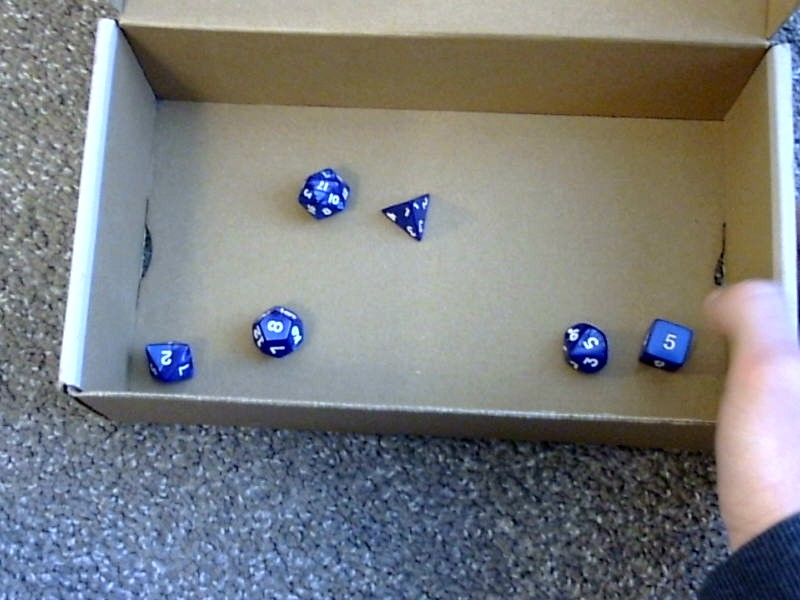d10 5: (555, 317, 611, 377)
d12 8: (249, 305, 309, 359)
d20 17: (299, 164, 348, 220)
d4 1: (381, 188, 431, 245)
d6 5: (635, 314, 693, 374)
d8 2: (143, 336, 195, 384)
